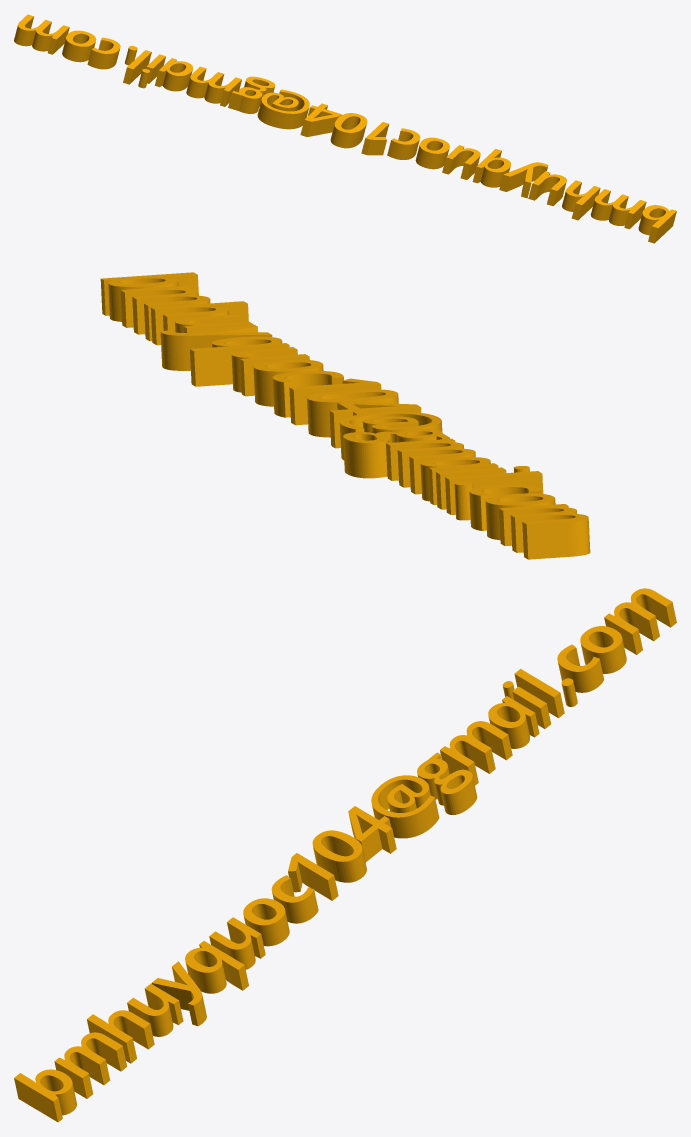
The picture shows the model from 3 angles, top to bottom: view 1: azimuth 30°, elevation 25°; view 2: azimuth 150°, elevation 25°; view 3: azimuth 270°, elevation 25°; orthographic projection. The views are drawn at different scales.
Parts seen in each view (by area): view 1: 3D Text - m (×3), 3D Text - o (×2), 3D Text - u (×2), 3D Text - @, 3D Text - c (×2), 3D Text - g, 3D Text - 0, 3D Text - b, 3D Text - q, 3D Text - a, 3D Text - y, 3D Text - 4 (+4 smaller); view 2: 3D Text - m (×3), 3D Text - o (×2), 3D Text - c (×2), 3D Text - g, 3D Text - u (×2), 3D Text - q, 3D Text - y, 3D Text - 0, 3D Text - @, 3D Text - b, 3D Text - h, 3D Text - l (+5 smaller); view 3: 3D Text - m (×3), 3D Text - u (×2), 3D Text - o (×2), 3D Text - @, 3D Text - c (×2), 3D Text - b, 3D Text - q, 3D Text - g, 3D Text - 0, 3D Text - h, 3D Text - a, 3D Text - 4 (+4 smaller).
Boxes of the visible parts, x1,y1,x2,y2 form: 3D Text - m (×3): [14, 14, 646, 229]; 3D Text - o (×2): [62, 30, 449, 169]; 3D Text - u (×2): [442, 145, 566, 205]; 3D Text - @: [257, 89, 309, 129]; 3D Text - c (×2): [87, 37, 420, 159]; 3D Text - g: [228, 76, 275, 113]; 3D Text - 0: [330, 113, 367, 148]; 3D Text - b: [638, 205, 676, 243]; 3D Text - q: [472, 149, 510, 187]; 3D Text - a: [155, 58, 192, 91]; 3D Text - y: [499, 162, 548, 198]; 3D Text - 4: [300, 103, 341, 136]; 3D Text - m (×3): [120, 285, 590, 559]; 3D Text - o (×2): [253, 359, 555, 539]; 3D Text - c (×2): [272, 371, 540, 530]; 3D Text - g: [343, 429, 449, 478]; 3D Text - u (×2): [175, 314, 309, 396]; 3D Text - q: [190, 336, 289, 386]; 3D Text - y: [160, 324, 272, 370]; 3D Text - 0: [307, 389, 398, 437]; 3D Text - @: [339, 411, 442, 460]; 3D Text - b: [100, 272, 198, 321]; 3D Text - h: [150, 301, 248, 345]; 3D Text - l: [445, 471, 543, 514]; 3D Text - m (×3): [54, 588, 676, 1098]; 3D Text - u (×2): [127, 917, 265, 1036]; 3D Text - o (×2): [243, 626, 626, 946]; 3D Text - @: [371, 775, 439, 838]; 3D Text - c (×2): [271, 644, 604, 923]; 3D Text - b: [14, 1069, 76, 1122]; 3D Text - q: [185, 941, 248, 993]; 3D Text - g: [417, 752, 477, 814]; 3D Text - 0: [312, 830, 366, 882]; 3D Text - h: [87, 1010, 154, 1063]; 3D Text - a: [488, 696, 539, 748]; 3D Text - 4: [348, 806, 396, 862].
Size of the model in its own units: 0.2747 by 0.0918 by 0.2455.
